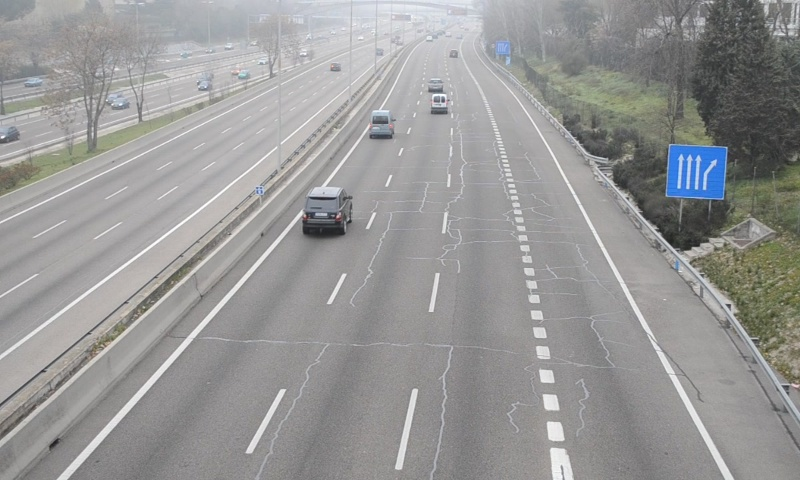car: (302, 187, 350, 230)
van: (368, 109, 394, 136), (430, 92, 448, 115)
